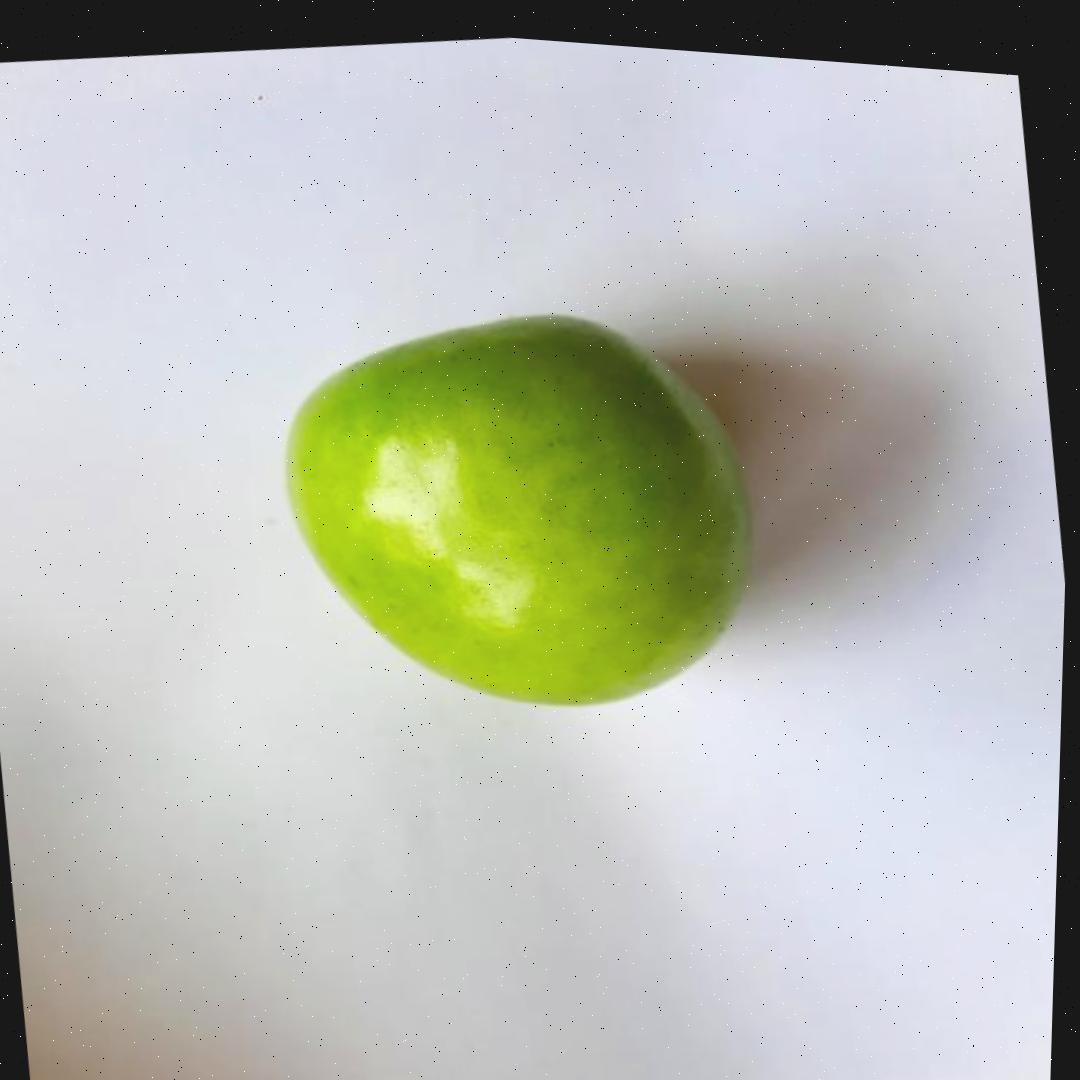mentah: (256, 269, 784, 758)
